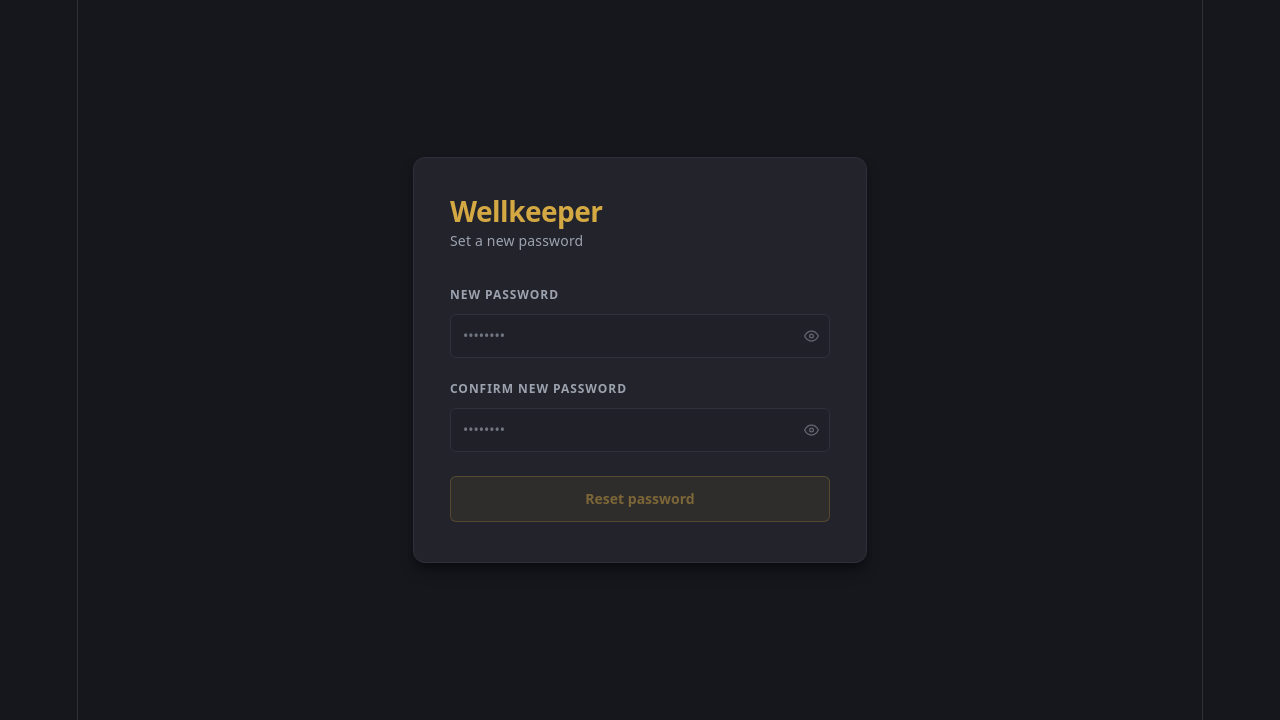
Test: ResetPasswordPage › shows a success message after a valid reset
In the password field labelled "New password": (640, 336) [450, 314, 830, 358], type "newpass1"
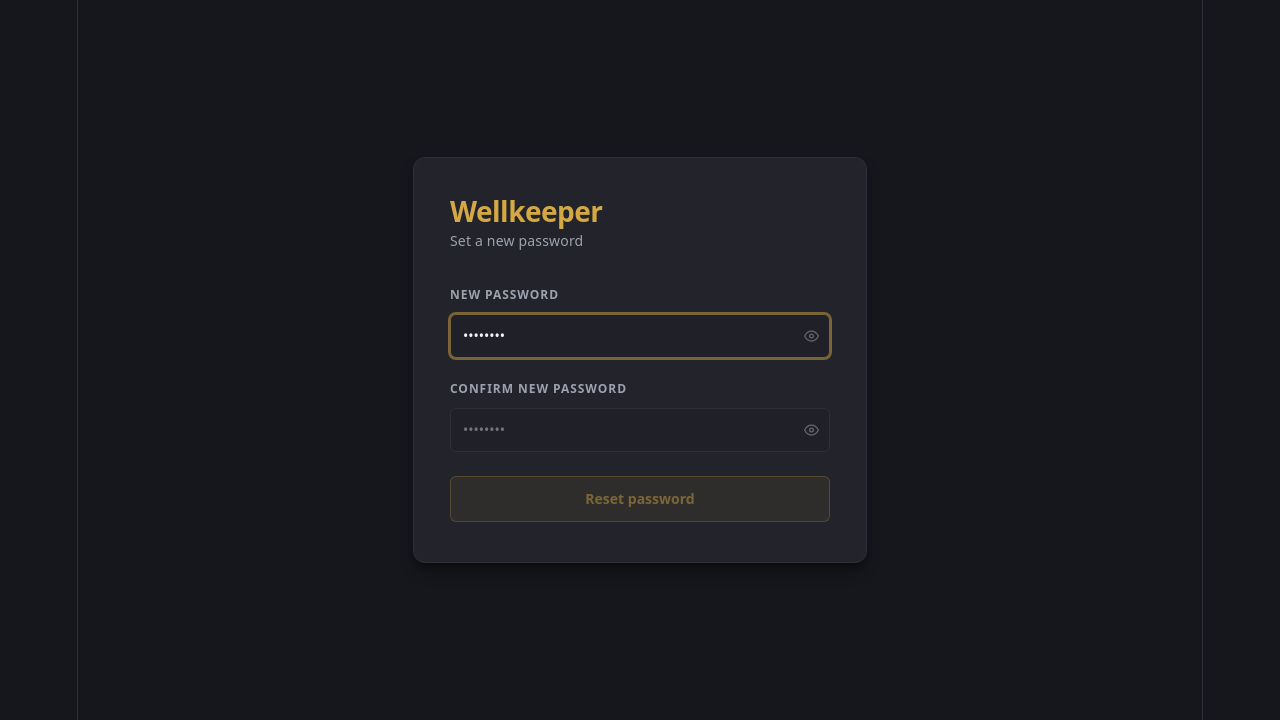
In the password field labelled "Confirm new password": (640, 430) [450, 408, 830, 452], type "newpass1"
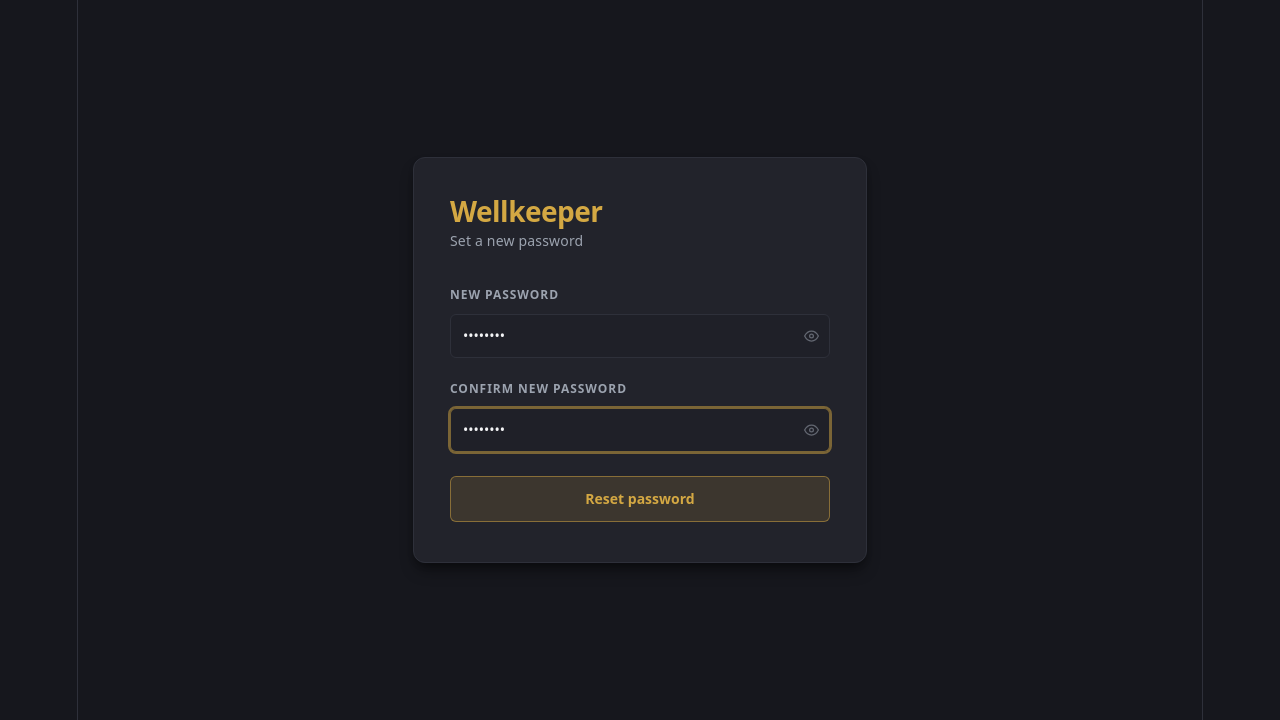
Click the button "Reset password": (640, 499) [450, 476, 830, 522]
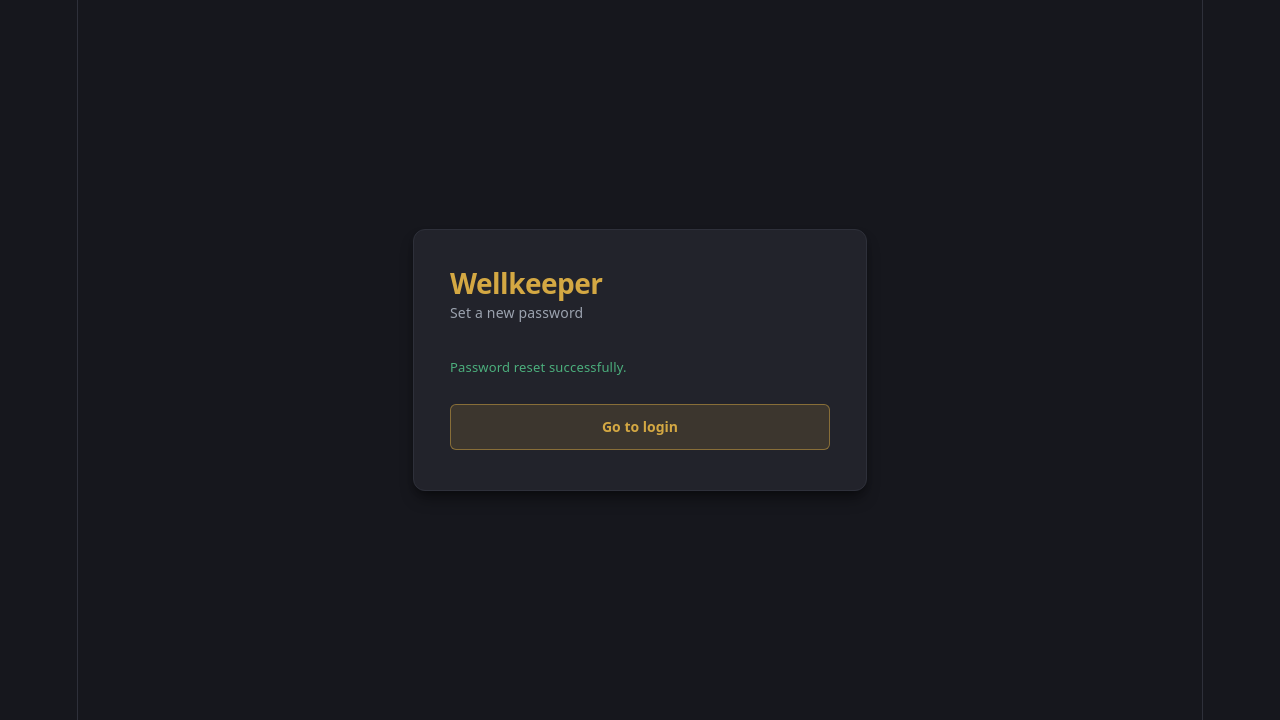
Check: the message shows "Password reset successfully", box [450, 358, 627, 376]
